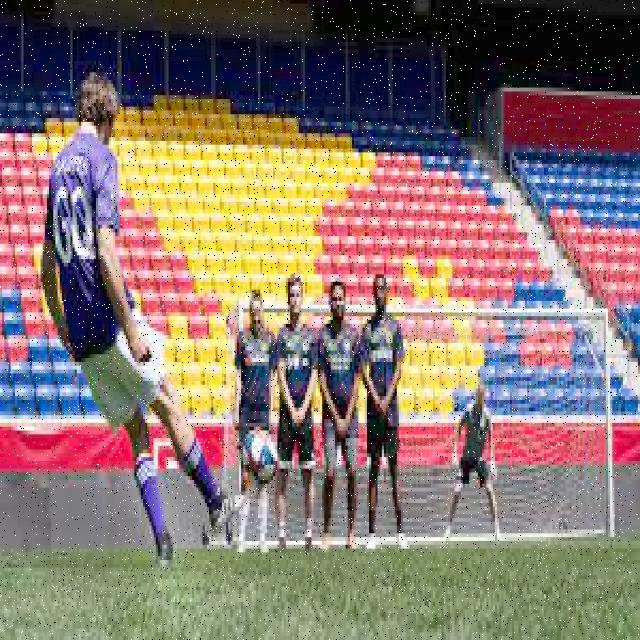free-kick: (227, 272, 418, 556)
